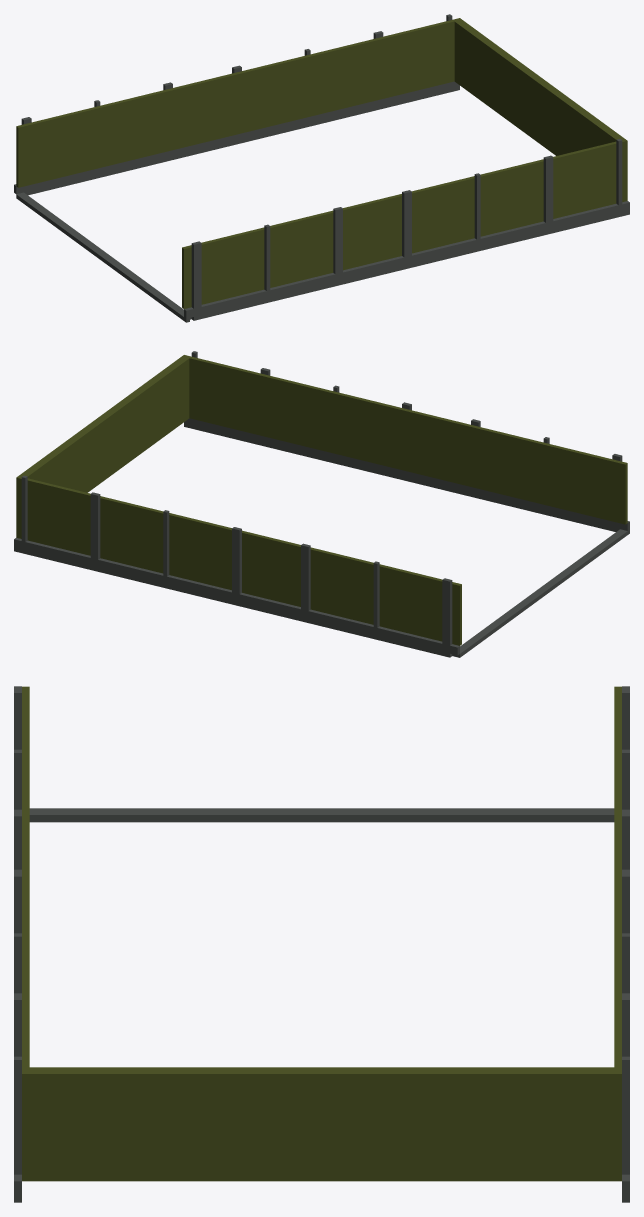
The model's file is military_cargo_truck_bed.glb.
The picture shows the model from 3 angles, top to bottom: view 1: azimuth 30°, elevation 25°; view 2: azimuth 150°, elevation 25°; view 3: azimuth 270°, elevation 25°; orthographic projection. The views are drawn at different scales.
Parts seen in each view (by area): view 1: body:compound; view 2: body:compound; view 3: body:compound.
Boxes of the visible parts, box(x1,y1,x2,y2) form: body:compound: box(14, 14, 629, 322); body:compound: box(14, 351, 629, 657); body:compound: box(14, 686, 629, 1202).
Size of the model in its own units: 3.62 by 0.5938 by 2.44.
